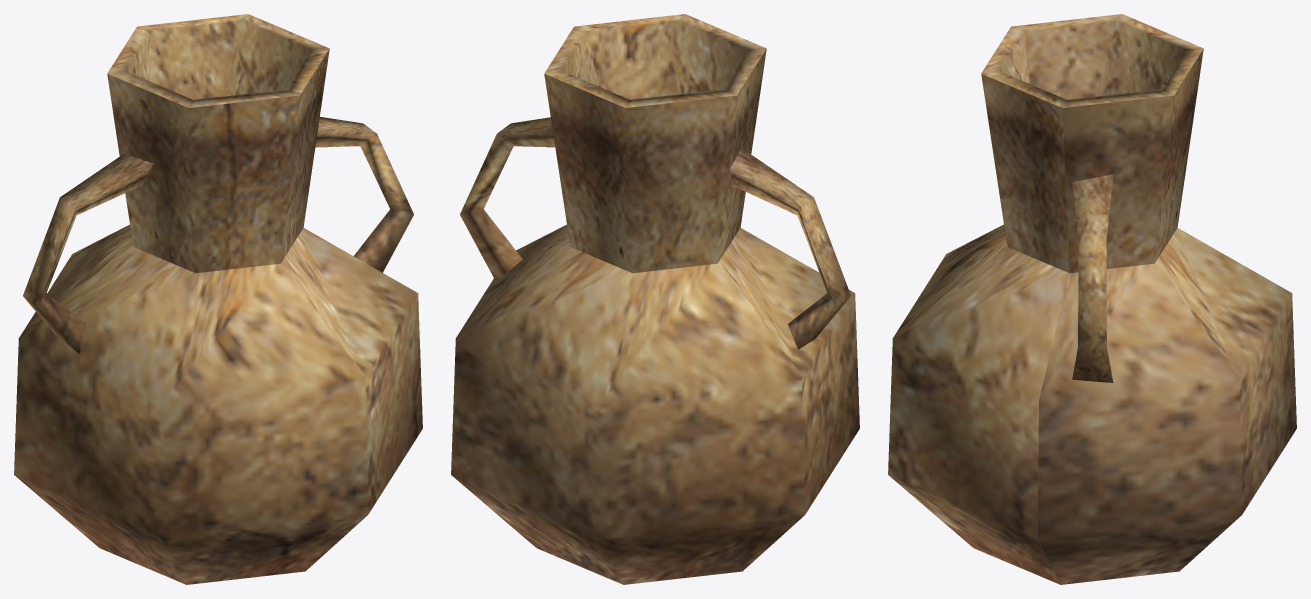
File: Jug2_LOD2.fbx
3 views of the same model, side by side, from view 1: azimuth 30°, elevation 25°; view 2: azimuth 150°, elevation 25°; view 3: azimuth 270°, elevation 25° (orthographic).
Parts seen in each view (by area): view 1: polySurface275; view 2: polySurface275; view 3: polySurface275.
Part boxes in pixels (<box>): polySurface275: <box>14,14,422,584</box>; polySurface275: <box>451,14,859,584</box>; polySurface275: <box>888,14,1296,584</box>.
Size of the model in its own units: 0.6404 by 0.7702 by 0.6018.
